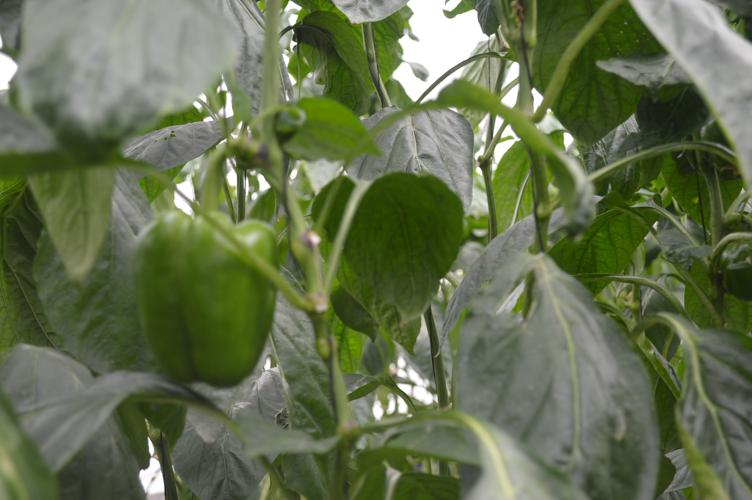BellPepper: (132, 217, 273, 383)
